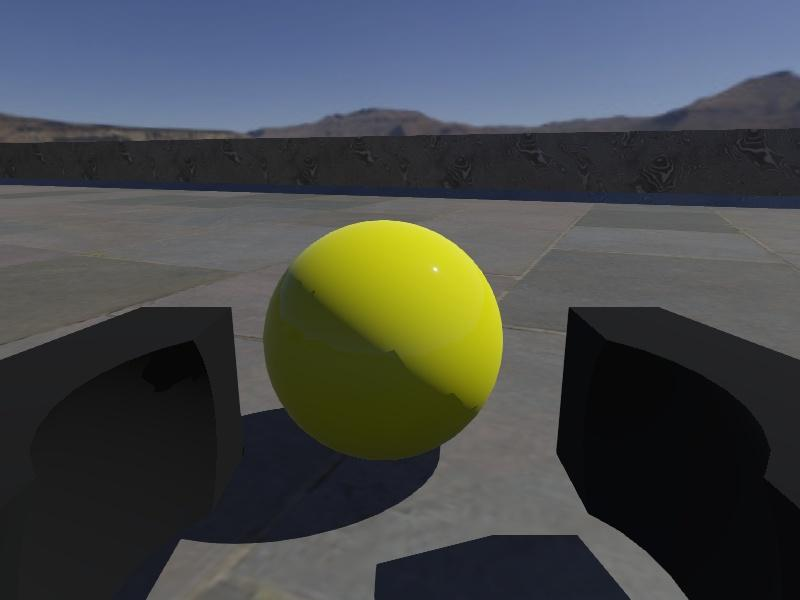yellow ball: (264, 220, 504, 462)
